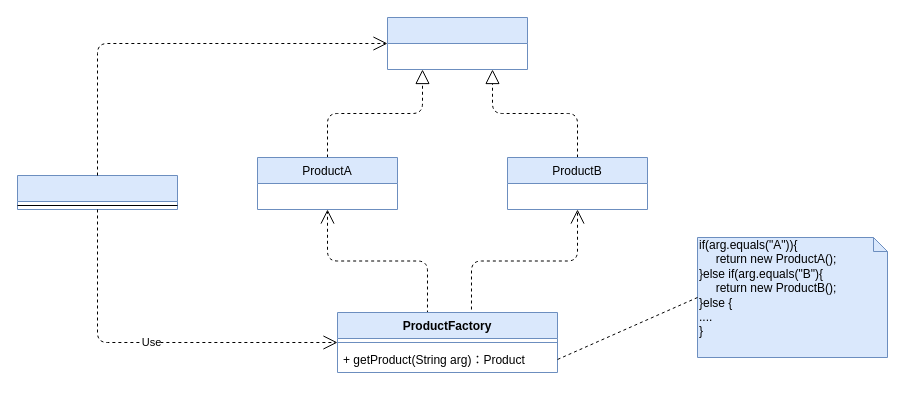
Some shapes in this 905 by 393 pixel diagram are drawn without their labels. The shapes that lost their labels are listed below. From the top down, each one's centre as x and y in pixels, then its label:
pixel 457 43: Product
pixel 97 192: Client
